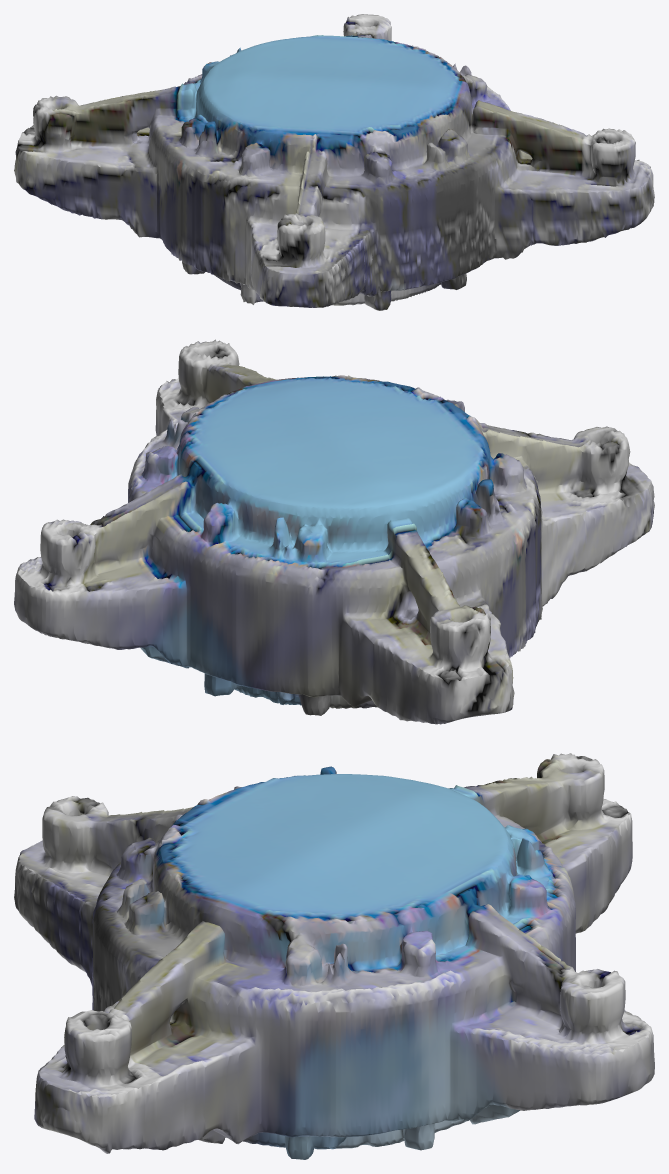
Rendered from allied_grand_cannon.glb.
3 views of the same model, one above another, from view 1: azimuth 30°, elevation 25°; view 2: azimuth 150°, elevation 25°; view 3: azimuth 270°, elevation 25° (orthographic). The views are drawn at different scales.
Visible parts, largest first — view 1: allied_grand_cannon; view 2: allied_grand_cannon; view 3: allied_grand_cannon.
Part boxes in pixels (left/top/right/bottom): allied_grand_cannon: left=14, top=14, right=654, bottom=310; allied_grand_cannon: left=14, top=339, right=654, bottom=724; allied_grand_cannon: left=14, top=753, right=654, bottom=1159.
Bounding box in the file's own units: 2.2 × 0.7865 × 1.93.
